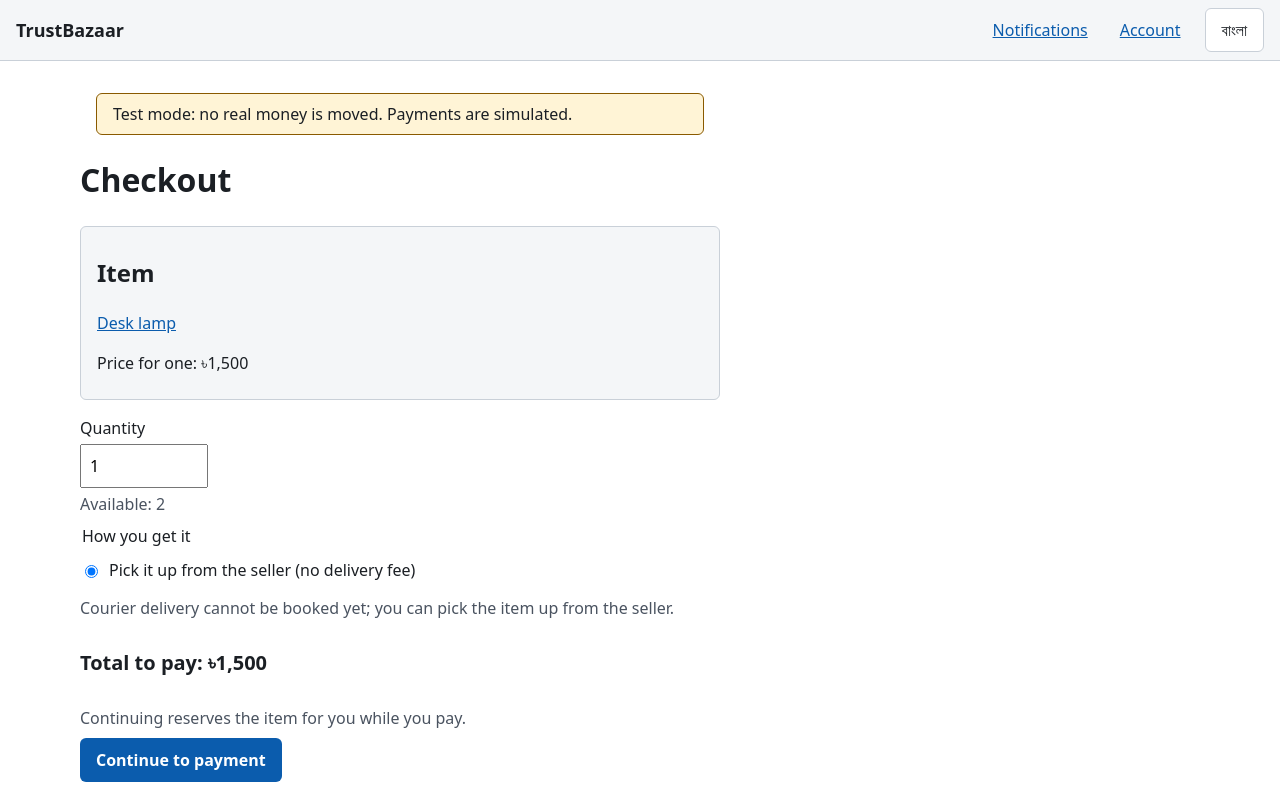
it: checkout › FR-FIX-05 a quantity above what is left is explained before sending; a sold-out item is refused in words
Replace the text in the field labelled "Quantity" with "3" at point(144, 466), box [80, 444, 208, 488]
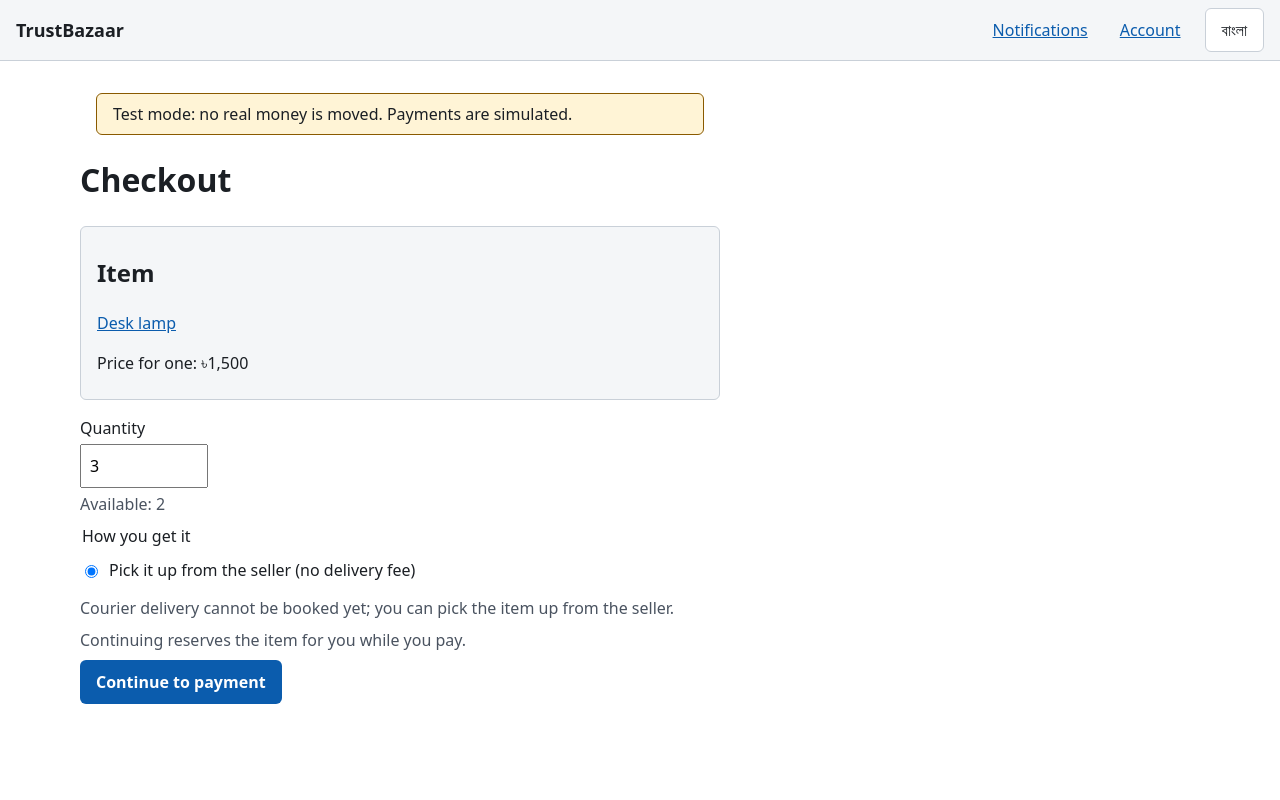
Click the button "Continue to payment" at point(181, 682), box [80, 660, 282, 704]
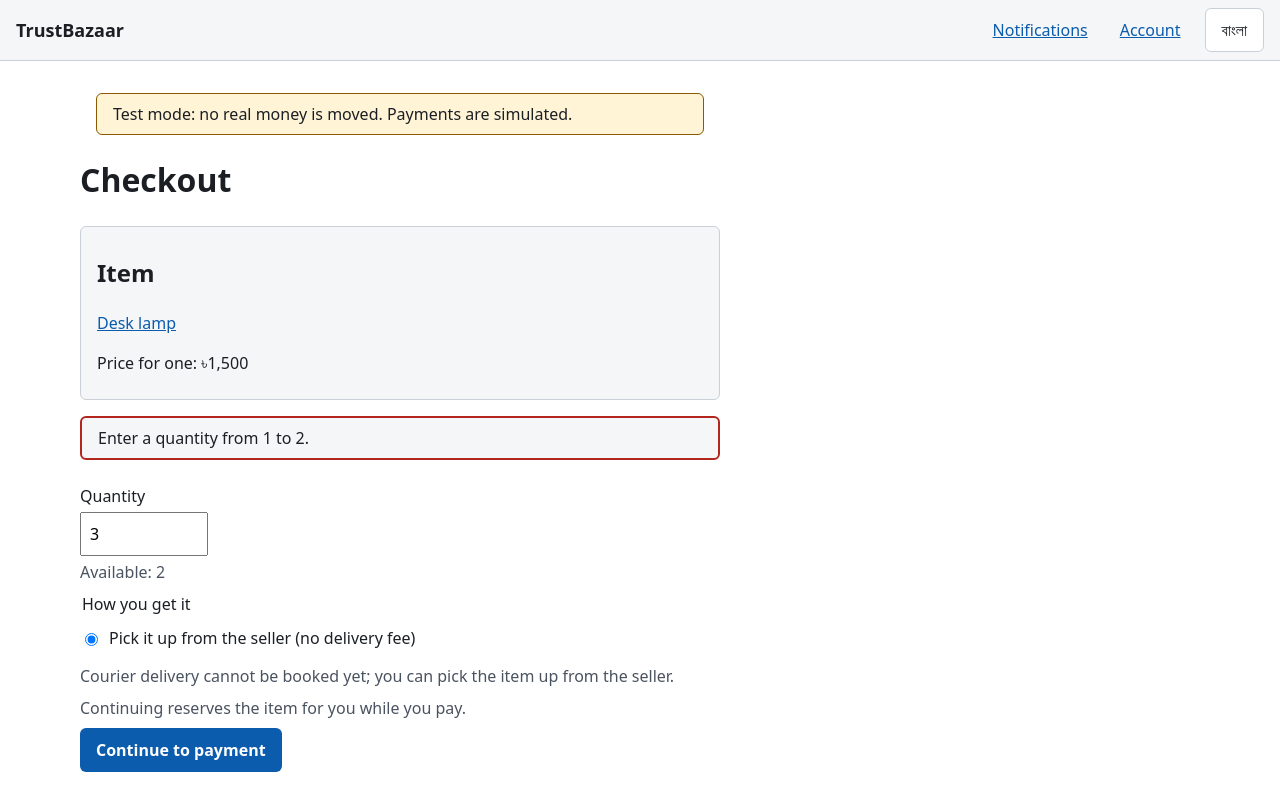
Expected: the text "Enter a quantity from 1 to 2." is shown, [80, 416, 720, 460]
Replace the text in the field labelled "Quantity" with "1" at point(144, 534), box [80, 512, 208, 556]
(page scrolled)
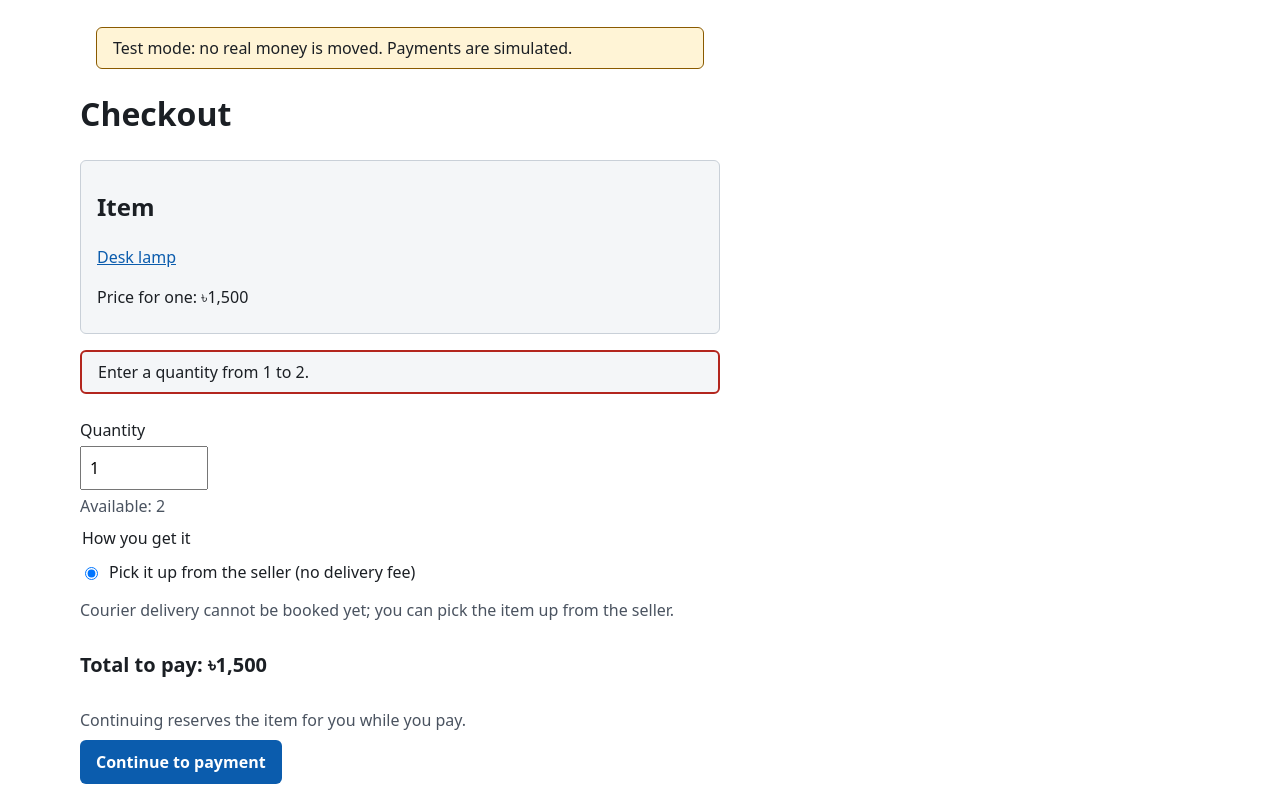
Click the button "Continue to payment" at point(181, 762), box [80, 740, 282, 784]
(page scrolled)
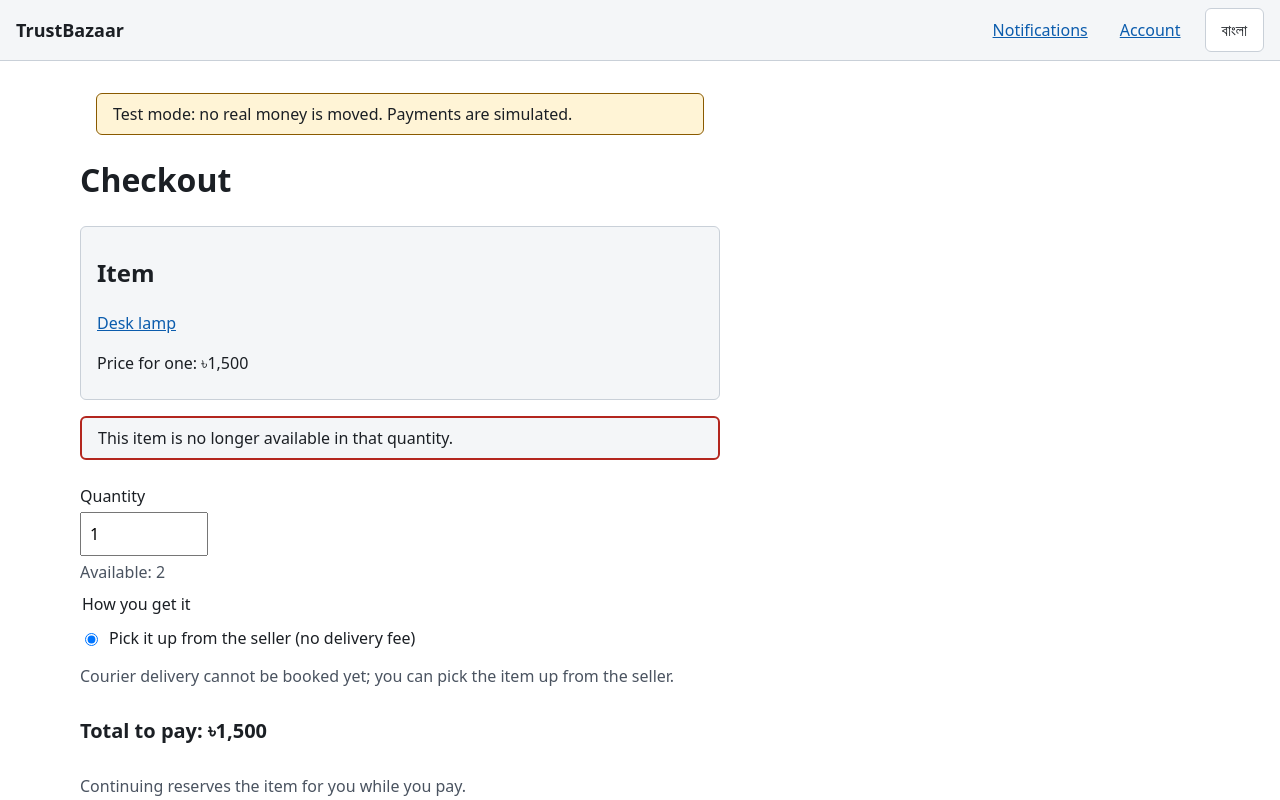
Expected: the text "This item is no longer available in that quantity." is shown, [80, 416, 720, 460]
